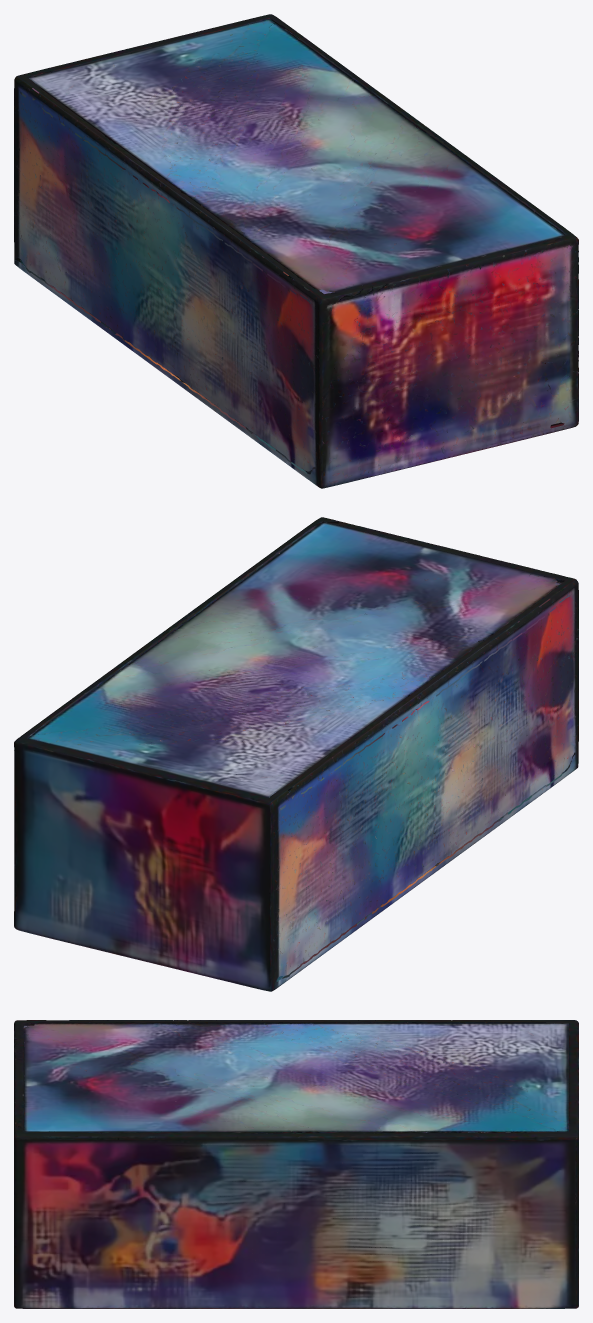
File: wall_mounted_tv.raw.glb
3 renders of one model, top to bottom at view 1: azimuth 30°, elevation 25°; view 2: azimuth 150°, elevation 25°; view 3: azimuth 270°, elevation 25°, orthographic. The views are drawn at different scales.
Parts seen in each view (by area): view 1: world; view 2: world; view 3: world.
Part boxes in pixels (box(x1,y1,x2,y2)): world: box(14, 14, 578, 488); world: box(14, 517, 578, 991); world: box(14, 1020, 578, 1308).
Size of the model in its own units: 0.4899 by 0.3409 by 1.
Materials: 1 (1 with a texture image).
